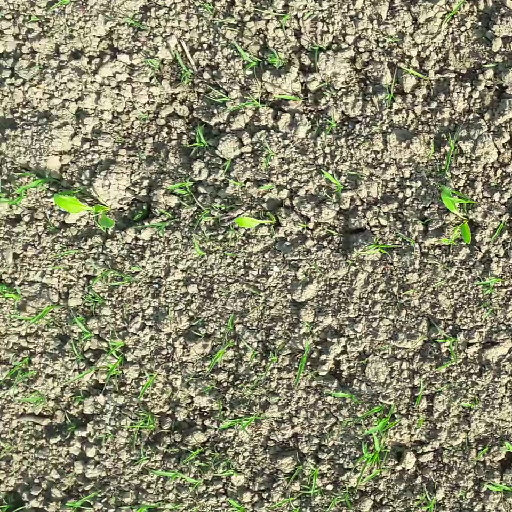sugarbeet: (50, 192, 116, 232), (437, 185, 473, 248), (231, 213, 277, 228)
weed: (2, 249, 156, 402), (178, 1, 340, 136), (270, 390, 400, 512), (118, 411, 268, 512), (136, 177, 233, 259), (270, 322, 315, 392), (1, 169, 56, 209), (473, 274, 506, 318), (363, 232, 416, 256), (435, 327, 463, 370), (322, 171, 360, 199), (182, 122, 212, 157), (204, 342, 232, 375), (28, 1, 68, 22), (64, 489, 100, 512), (383, 63, 398, 116), (401, 63, 439, 83), (446, 186, 479, 208), (414, 380, 426, 432), (482, 478, 512, 496), (443, 221, 463, 248), (444, 1, 464, 27), (222, 309, 238, 340), (444, 133, 454, 175), (419, 489, 437, 512), (1, 497, 28, 512), (489, 217, 503, 241), (119, 16, 146, 28), (380, 33, 403, 46), (145, 58, 162, 72), (476, 444, 488, 458), (503, 439, 512, 449)
